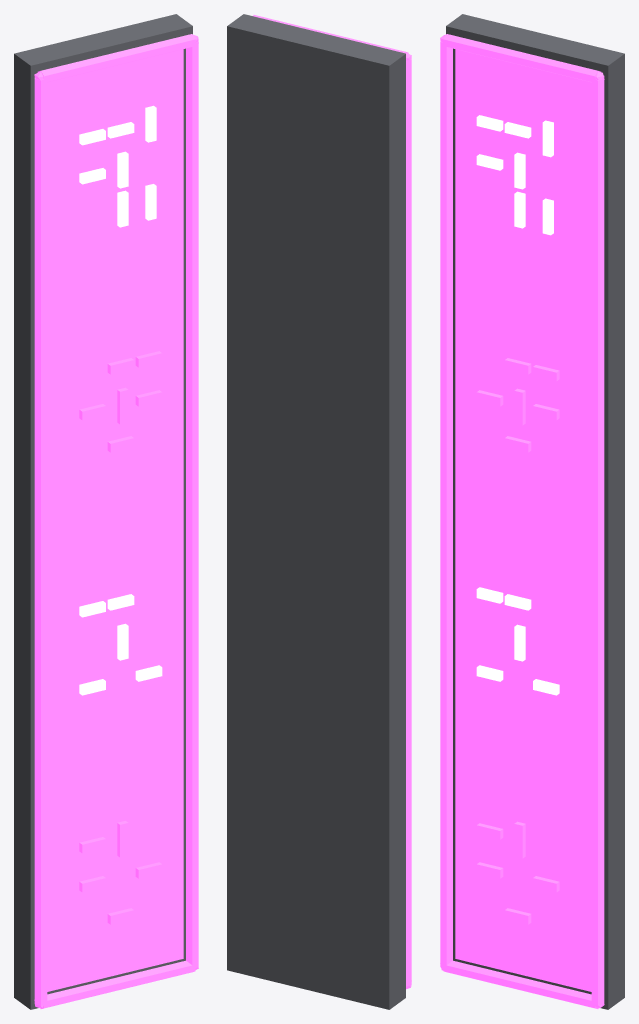
The model's file is sign_tall.glb.
3 renders of one model, left to right at view 1: azimuth 30°, elevation 25°; view 2: azimuth 150°, elevation 25°; view 3: azimuth 330°, elevation 25°, orthographic.
Visible parts, largest first — view 1: SignTall; view 2: SignTall; view 3: SignTall.
Part boxes in pixels (x1,y1,x2,y2): SignTall: [14, 14, 198, 1009]; SignTall: [227, 14, 411, 1009]; SignTall: [440, 14, 624, 1009].
Bounding box in the file's own units: 0.91 × 5 × 0.26.
